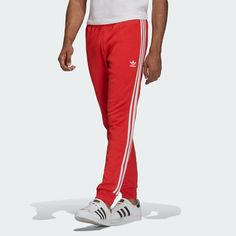adidas Originale: (126, 58, 138, 70)
